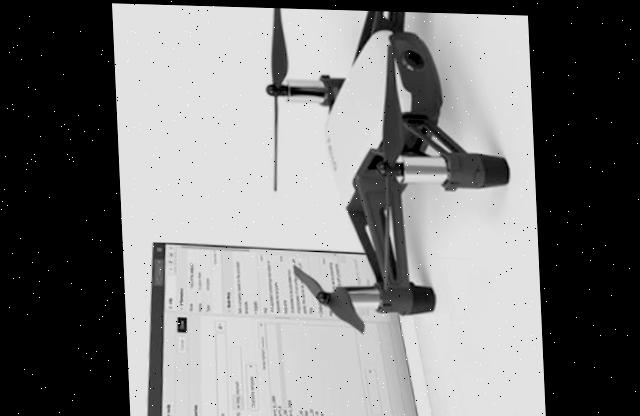drone: (251, 6, 513, 354)
